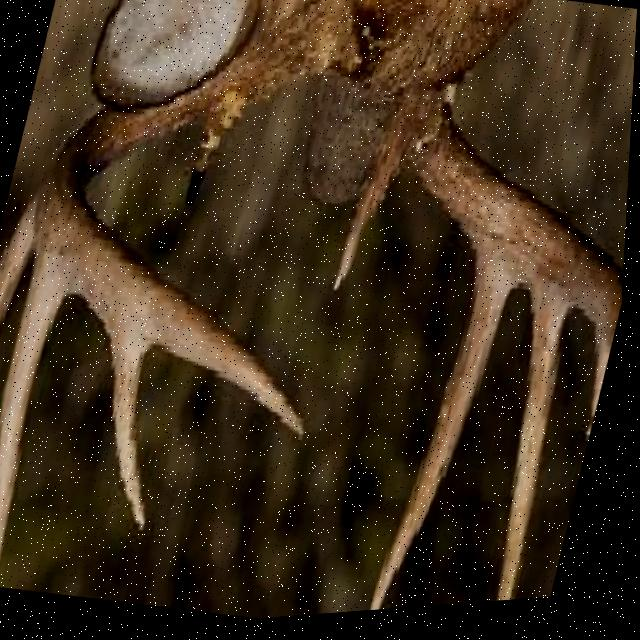L-F: (38, 0, 362, 447)
L-G1: (184, 109, 247, 221)
L-G2: (0, 189, 37, 339)
L-G3: (0, 257, 75, 587)
L-G4: (109, 332, 159, 538)
R-F: (387, 78, 627, 368)
R-G1: (332, 146, 410, 302)
R-G2: (375, 258, 522, 617)
R-G3: (501, 299, 579, 609)
